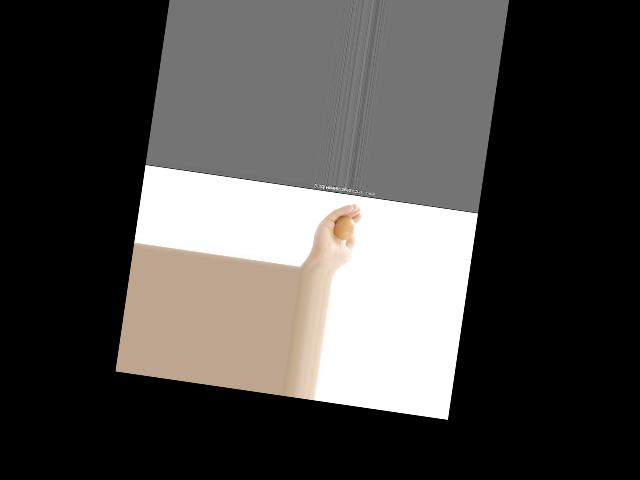egg: (333, 212, 356, 241)
